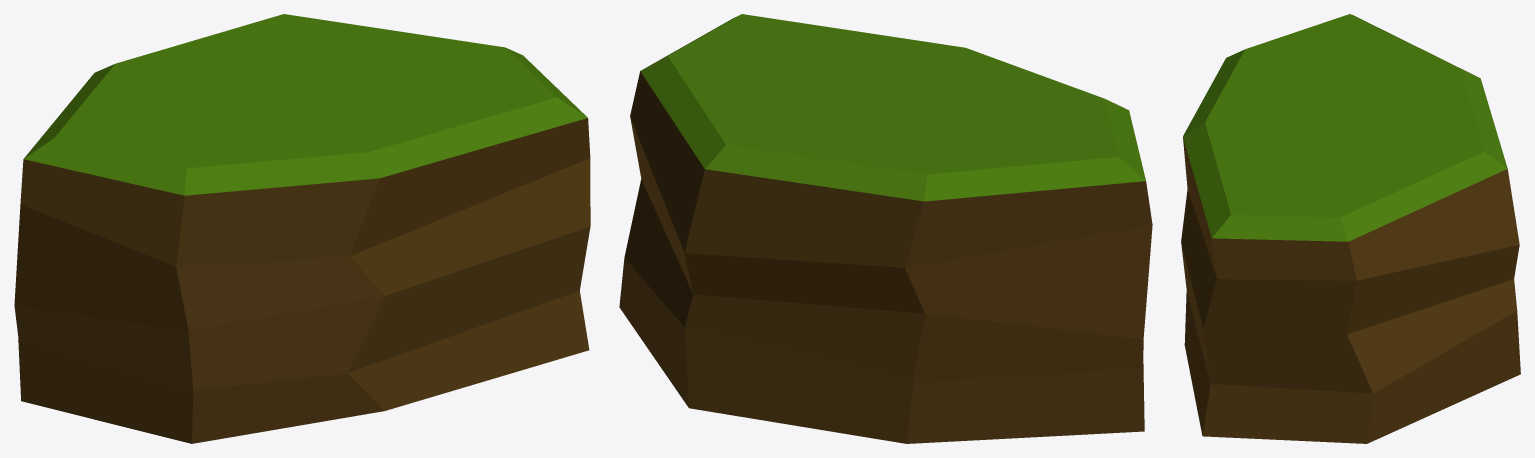
File: LandExtra_3.fbx
The picture shows the model from 3 angles, left to right: view 1: azimuth 30°, elevation 25°; view 2: azimuth 150°, elevation 25°; view 3: azimuth 270°, elevation 25°; orthographic projection. The views are drawn at different scales.
Visible parts, largest first — view 1: Plane.001; view 2: Plane.001; view 3: Plane.001.
Boxes of the visible parts, x1,y1,x2,y2 form: Plane.001: (14, 14, 590, 443); Plane.001: (619, 14, 1152, 443); Plane.001: (1181, 14, 1520, 443).
Size of the model in its own units: 517 by 253 by 339.
